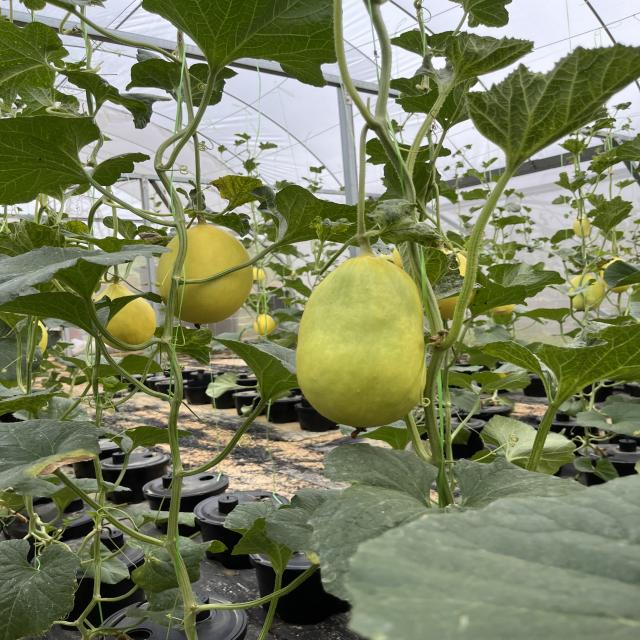CMV: (468, 44, 640, 162), (482, 310, 640, 412), (442, 33, 532, 80)
SLCV: (310, 216, 352, 241)
alternaria leaf blight: (0, 418, 101, 495), (207, 172, 269, 208)
downy mildew: (129, 0, 340, 94), (0, 241, 166, 308), (0, 115, 112, 206), (0, 538, 84, 640), (0, 19, 70, 112), (125, 533, 218, 591), (121, 588, 200, 628)
healthy: (210, 334, 314, 406), (470, 412, 576, 478), (58, 67, 171, 125), (467, 260, 560, 315), (106, 422, 193, 458), (0, 382, 68, 421), (448, 0, 518, 30)
